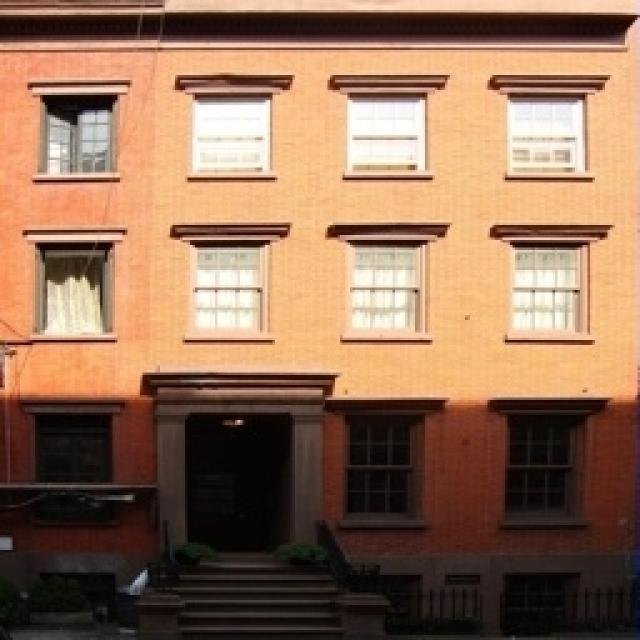Window: (350, 422, 415, 512), (510, 422, 575, 512), (347, 98, 425, 172), (510, 95, 585, 170), (195, 98, 268, 170), (42, 250, 106, 332), (352, 250, 416, 330), (35, 418, 113, 482), (198, 248, 260, 328), (518, 250, 580, 328), (45, 100, 110, 172)
